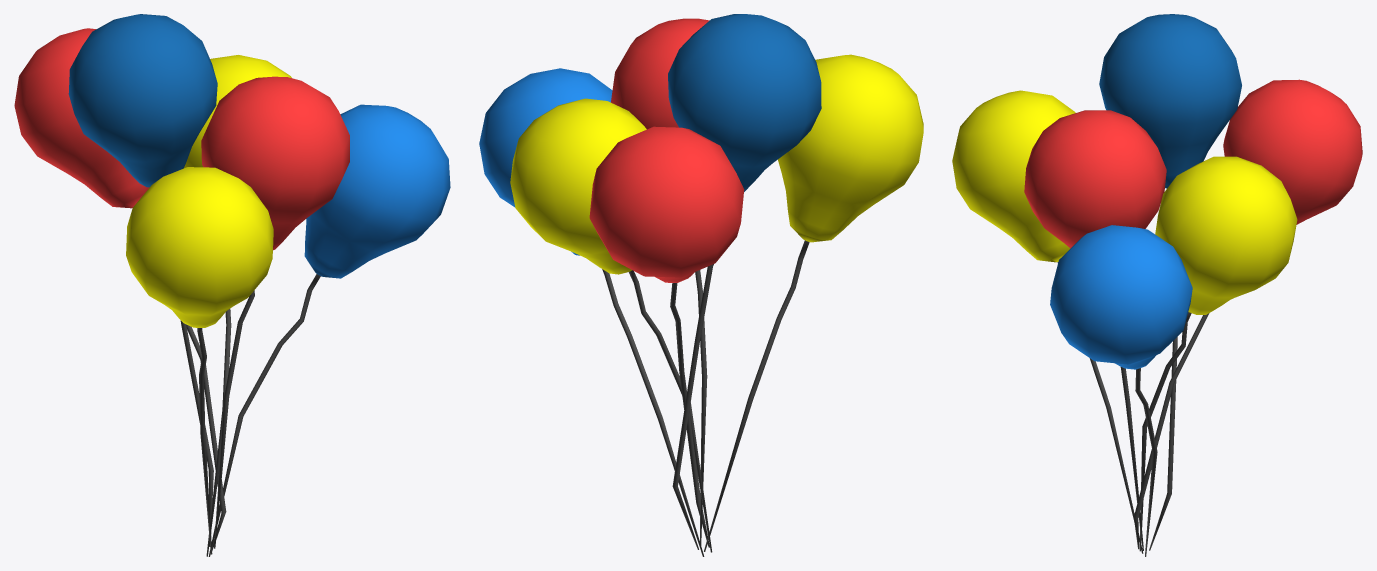
File: baloes.fbx
The picture shows the model from 3 angles, left to right: view 1: azimuth 30°, elevation 25°; view 2: azimuth 150°, elevation 25°; view 3: azimuth 270°, elevation 25°; orthographic projection. The views are drawn at different scales.
Parts seen in each view (by area): view 1: Balão.007; view 2: Balão.007; view 3: Balão.007.
Boxes of the visible parts, box(x1,y1,x2,y2) form: Balão.007: box(14, 14, 450, 556); Balão.007: box(479, 14, 923, 556); Balão.007: box(952, 14, 1362, 556).
Size of the model in its own units: 95.81 by 139 by 101.
